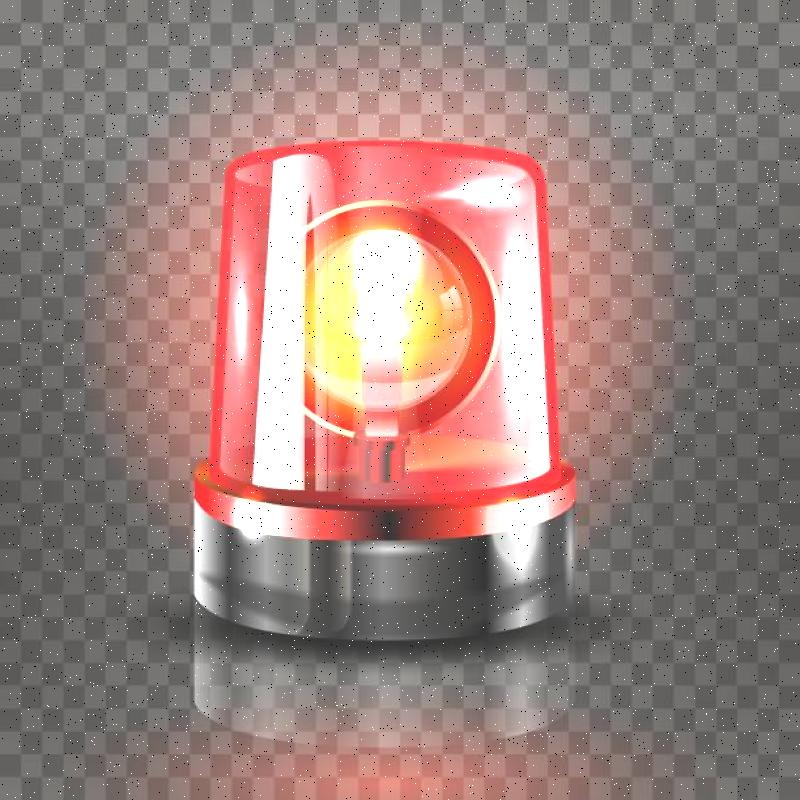AmbulanceSiren: (151, 134, 577, 600)
